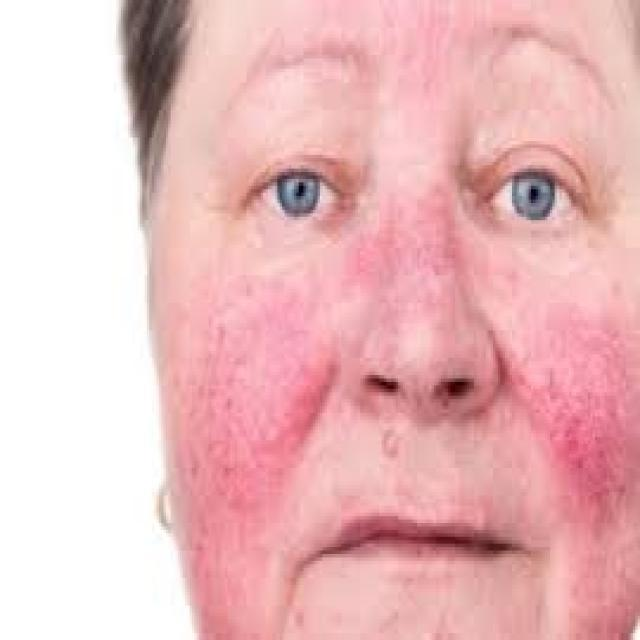Rosacea: (181, 277, 337, 611), (506, 284, 640, 534), (341, 184, 470, 291)
